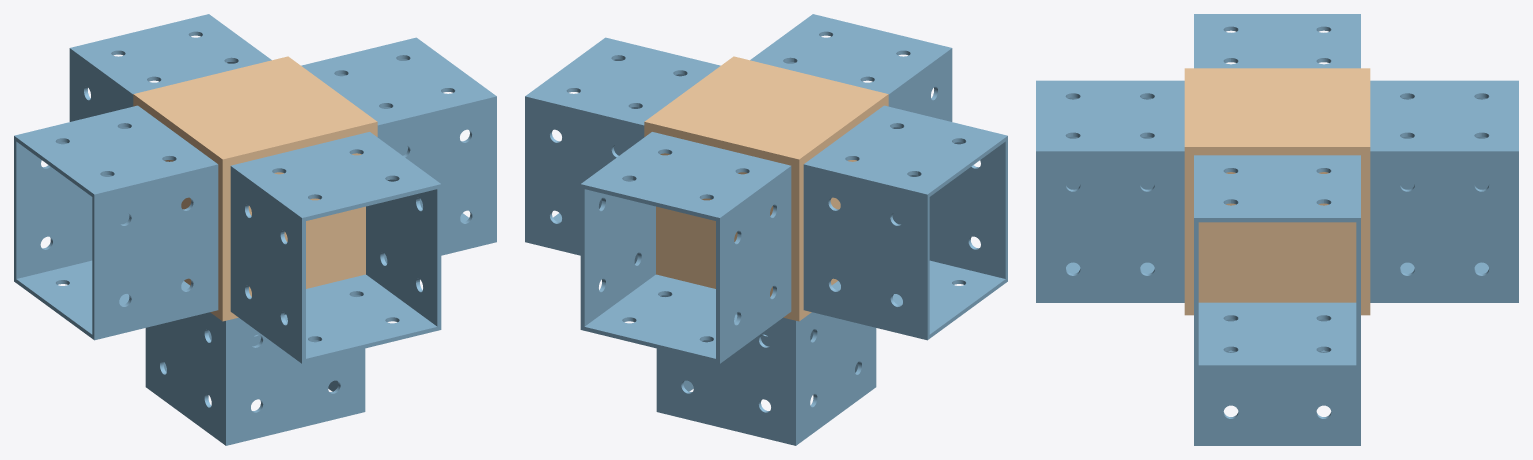
3 views of the same model, side by side, from view 1: azimuth 30°, elevation 25°; view 2: azimuth 150°, elevation 25°; view 3: azimuth 270°, elevation 25° (orthographic). The views are drawn at different scales.
Parts seen in each view (by area): view 1: <组件#23>_31, <组件#23>_28, <组件#22>_7, <组件#23>_30, <组件#23>_27, <组件#23>_29; view 2: <组件#23>_31, <组件#23>_29, <组件#22>_7, <组件#23>_30, <组件#23>_27, <组件#23>_28; view 3: <组件#23>_28, <组件#23>_29, <组件#22>_7, <组件#23>_30, <组件#23>_27, <组件#23>_31.
Boxes of the visible parts, left/top/right/bottom form: <组件#23>_31: left=14, top=105, right=218, bottom=340; <组件#23>_28: left=230, top=132, right=441, bottom=363; <组件#22>_7: left=133, top=56, right=377, bottom=321; <组件#23>_30: left=301, top=37, right=496, bottom=263; <组件#23>_27: left=145, top=295, right=365, bottom=445; <组件#23>_29: left=69, top=14, right=271, bottom=121; <组件#23>_31: left=803, top=105, right=1007, bottom=340; <组件#23>_29: left=580, top=132, right=791, bottom=363; <组件#22>_7: left=644, top=56, right=888, bottom=321; <组件#23>_30: left=525, top=37, right=720, bottom=263; <组件#23>_27: left=656, top=295, right=876, bottom=445; <组件#23>_28: left=750, top=14, right=952, bottom=121; <组件#23>_28: left=1036, top=80, right=1184, bottom=302; <组件#23>_29: left=1370, top=80, right=1518, bottom=302; <组件#22>_7: left=1184, top=68, right=1370, bottom=315; <组件#23>_30: left=1194, top=155, right=1360, bottom=369; <组件#23>_27: left=1194, top=319, right=1360, bottom=445; <组件#23>_31: left=1194, top=14, right=1360, bottom=68.
Bounding box in the file's own units: 20.47 × 14.17 × 20.47.
